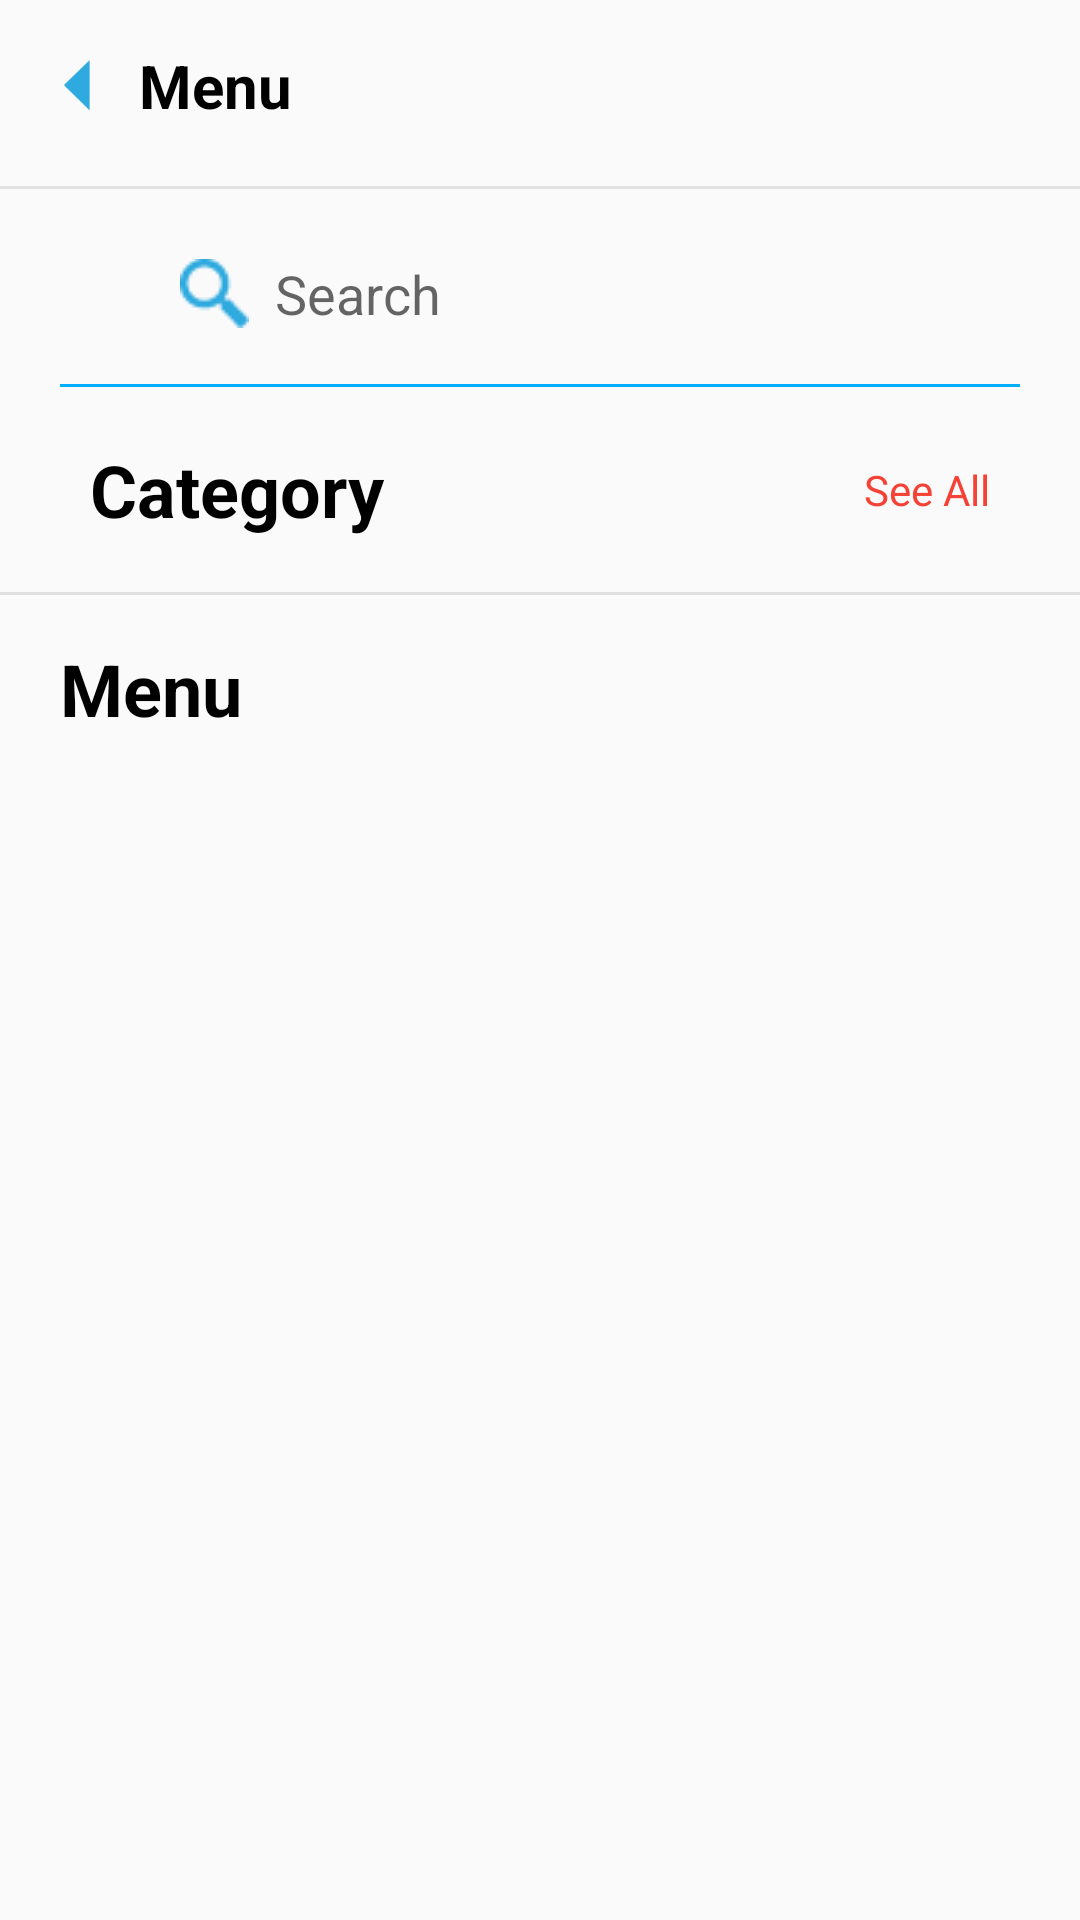

Icon bounding boxes for this 1080×1920 phone screenshot, format (x1, y1, x2, y2):
option back: (64, 60, 90, 110)
